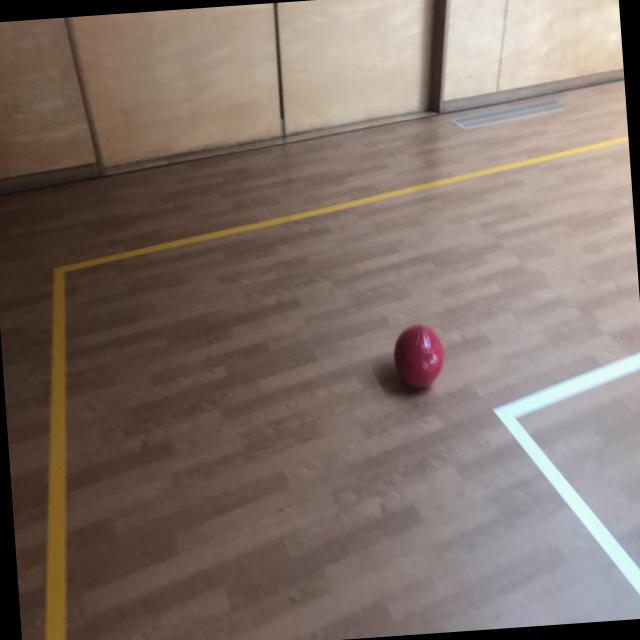red_ball: (392, 323, 446, 391)
